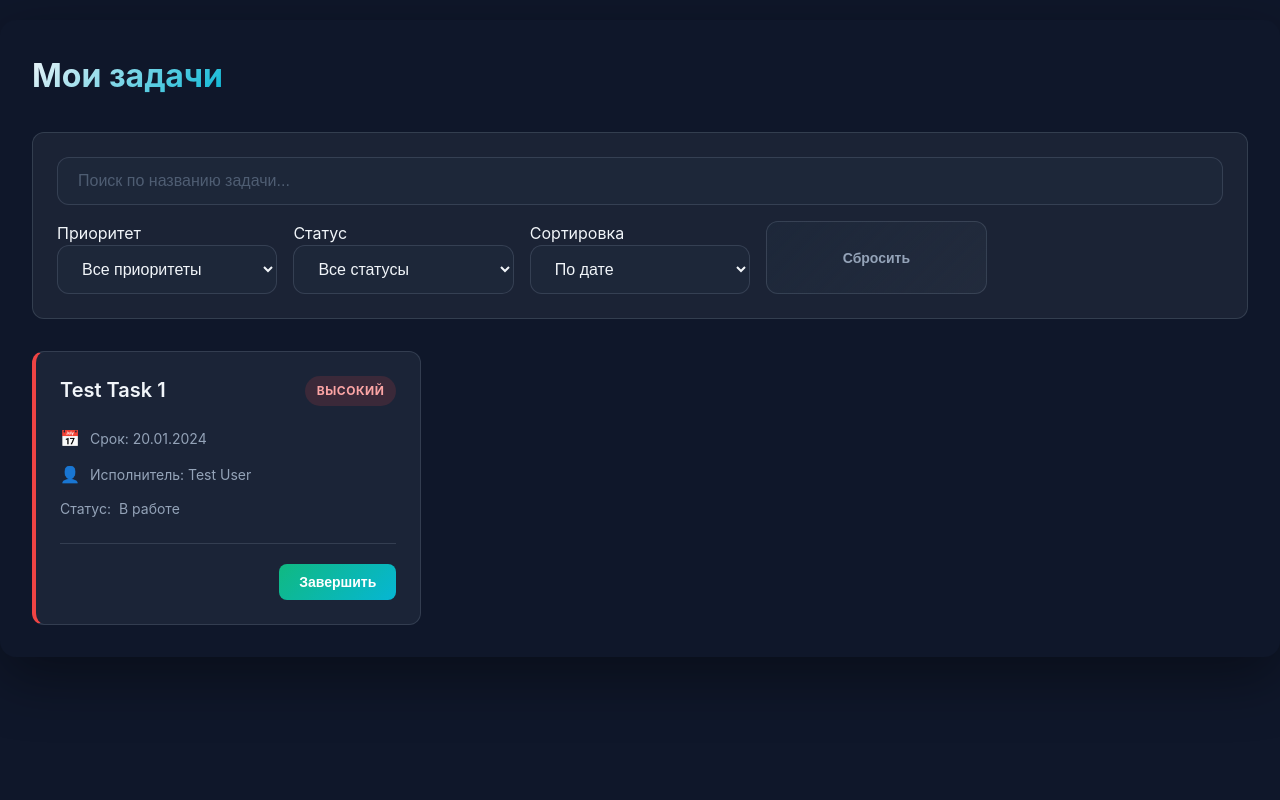
Test case: TaskList Component › сброс фильтров работает
Expected: the heading "Test Task 1" is shown, [60,378,166,402]
Step 1. Type "Task 2" into the field with placeholder "Поиск по названию задачи..." → [640, 181], box [57,157,1223,205]
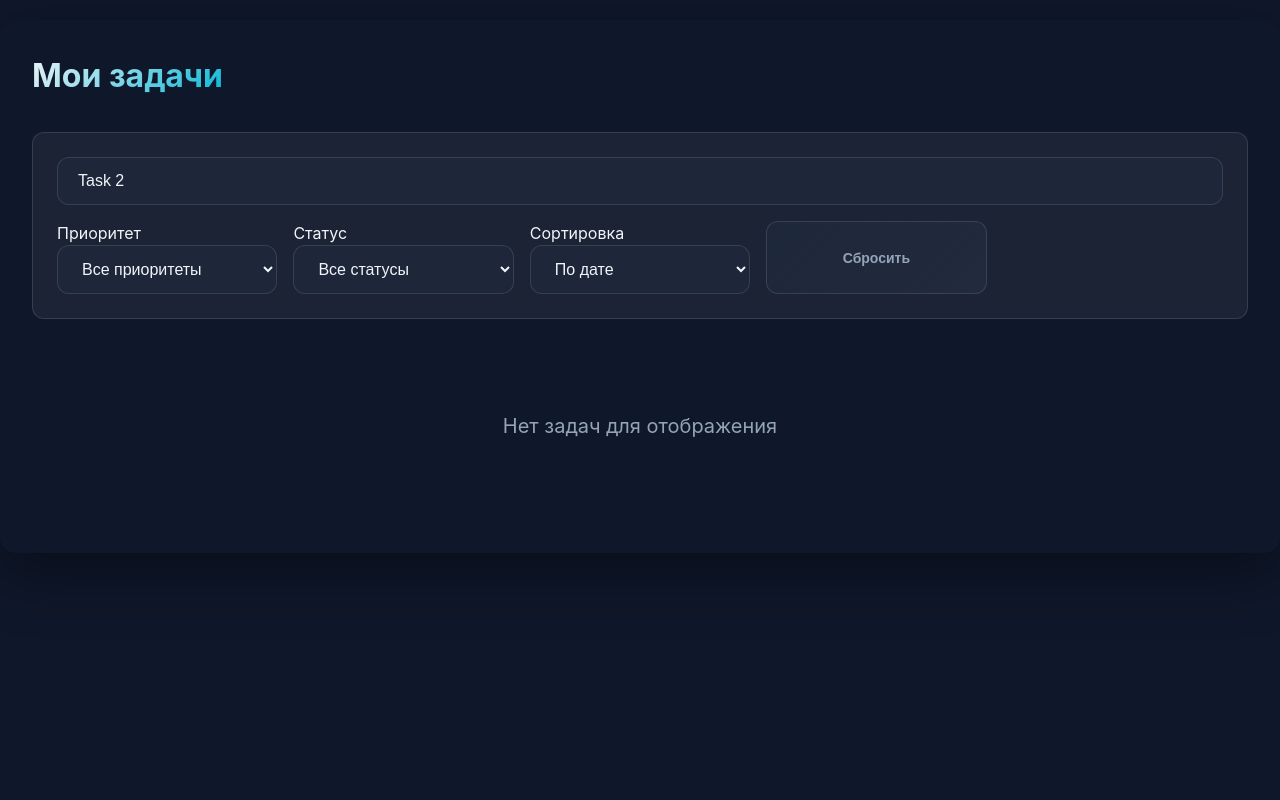
Step 2. Click the button "Сбросить" → [876, 258], box [766,221,987,294]
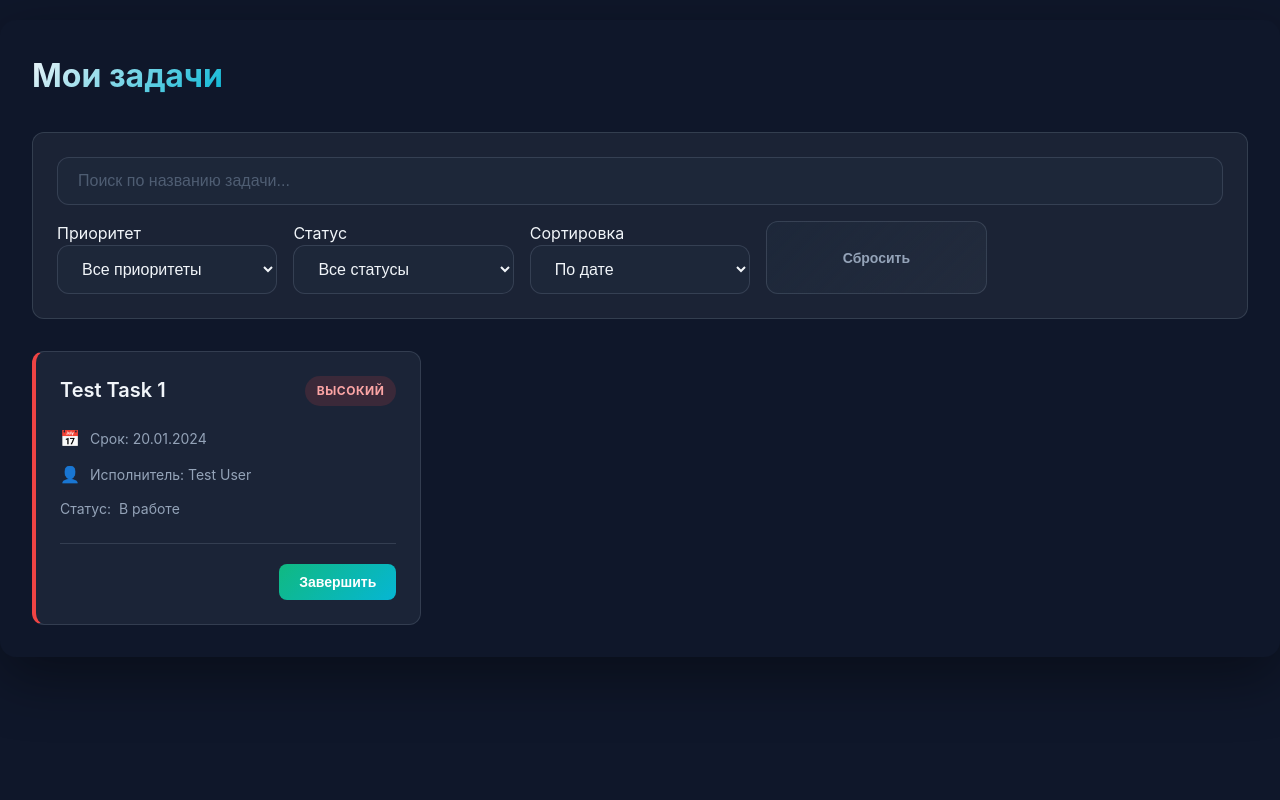
Now the field with placeholder "Поиск по названию задачи..." is empty, box [57,157,1223,205]
Now the heading "Test Task 1" is shown, box [60,378,166,402]
